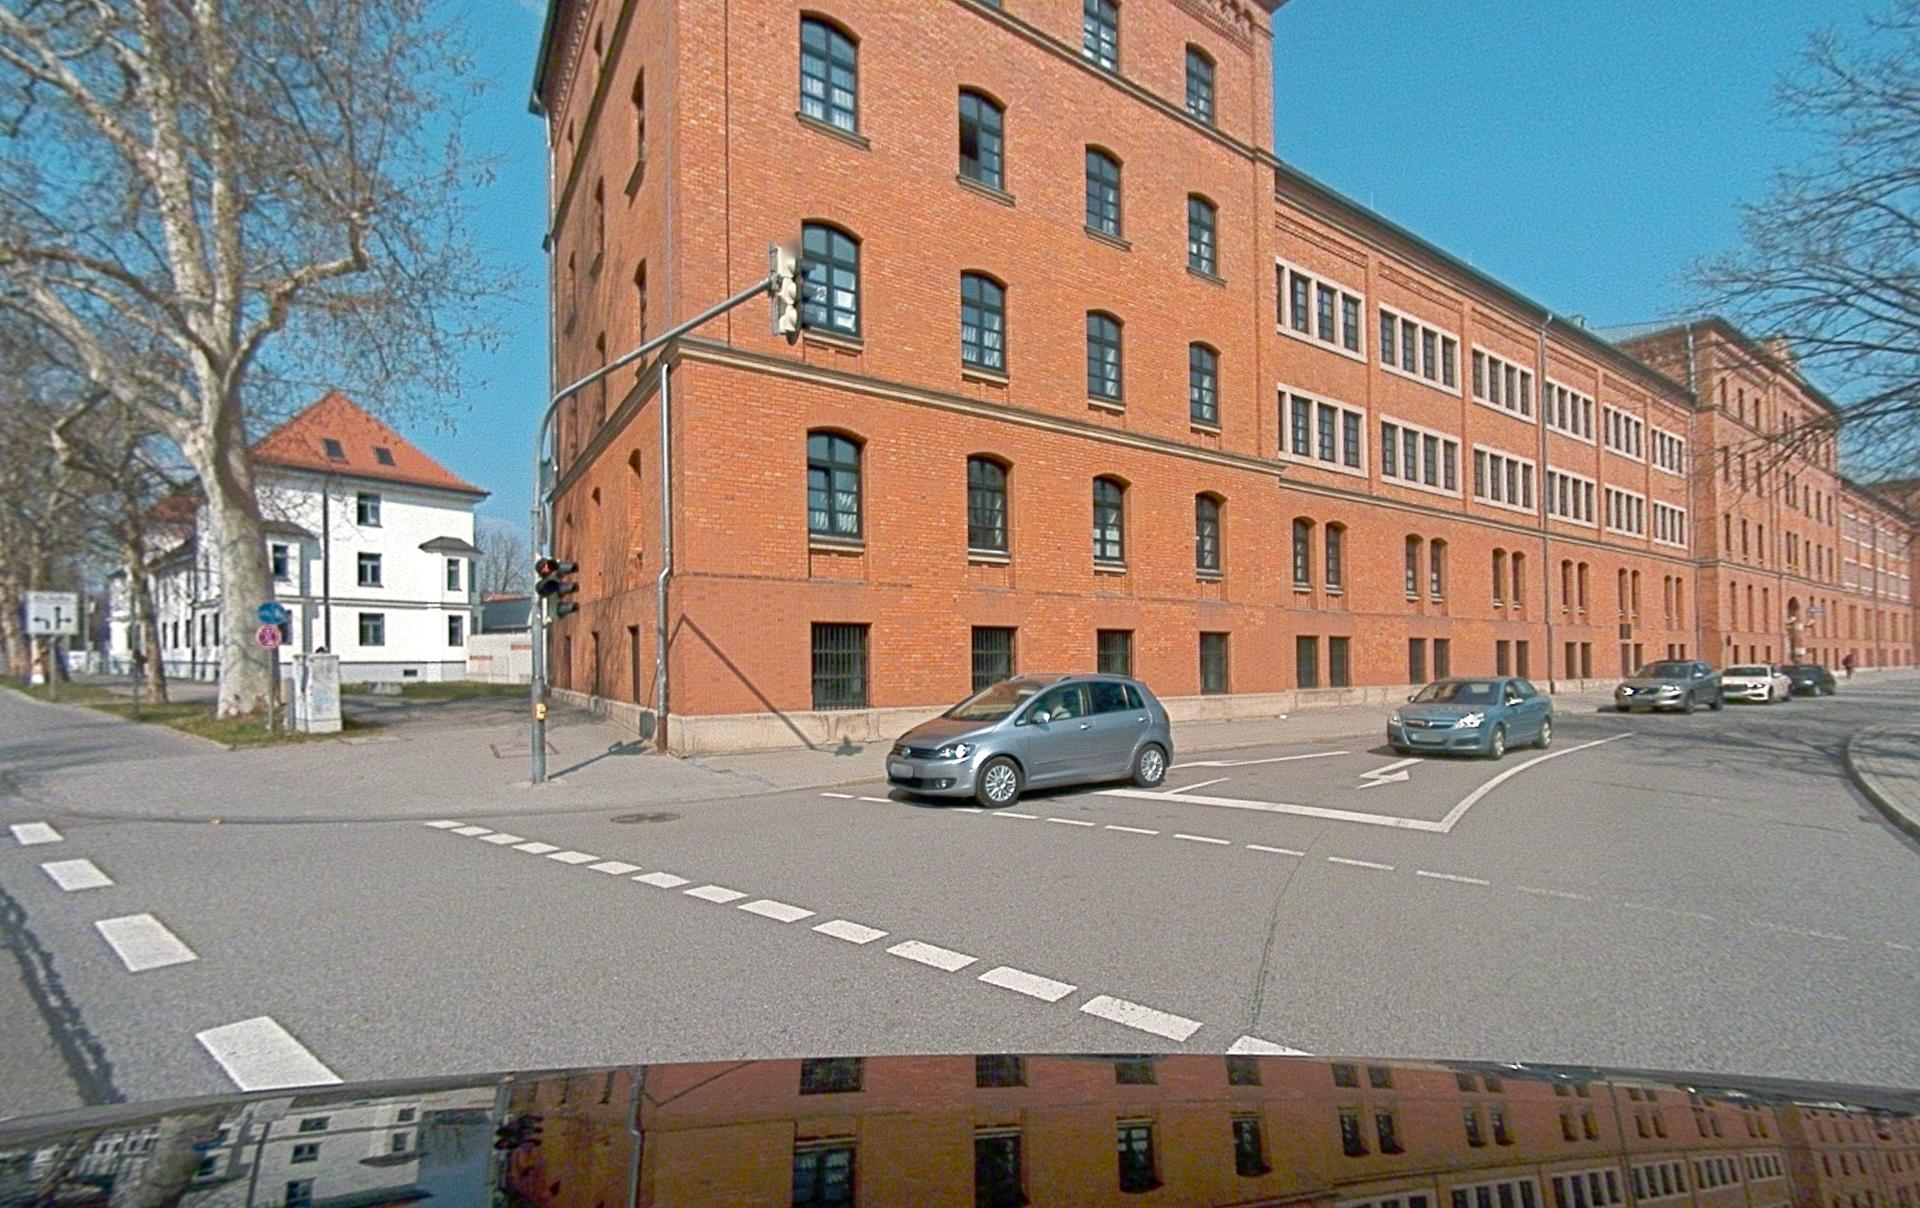car: (886, 674, 1171, 806), (1387, 676, 1551, 758), (1614, 660, 1722, 711), (1721, 665, 1791, 701), (1781, 664, 1835, 694)
